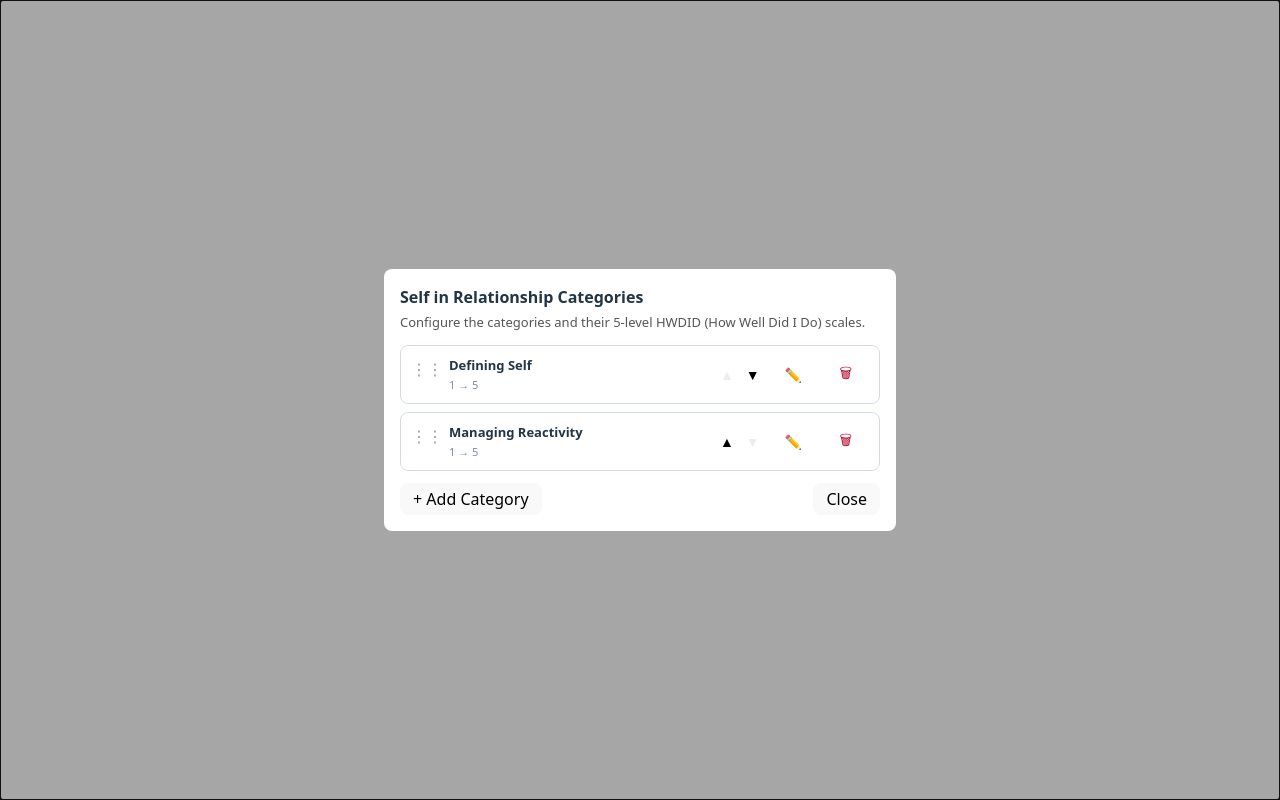
Test case: SIRSettingsModal — names (settings-07, settings-08) › refuses a duplicate name with a message
Click the button named "Edit Defining Self".
click(793, 375)  # box [768,357,819,393]
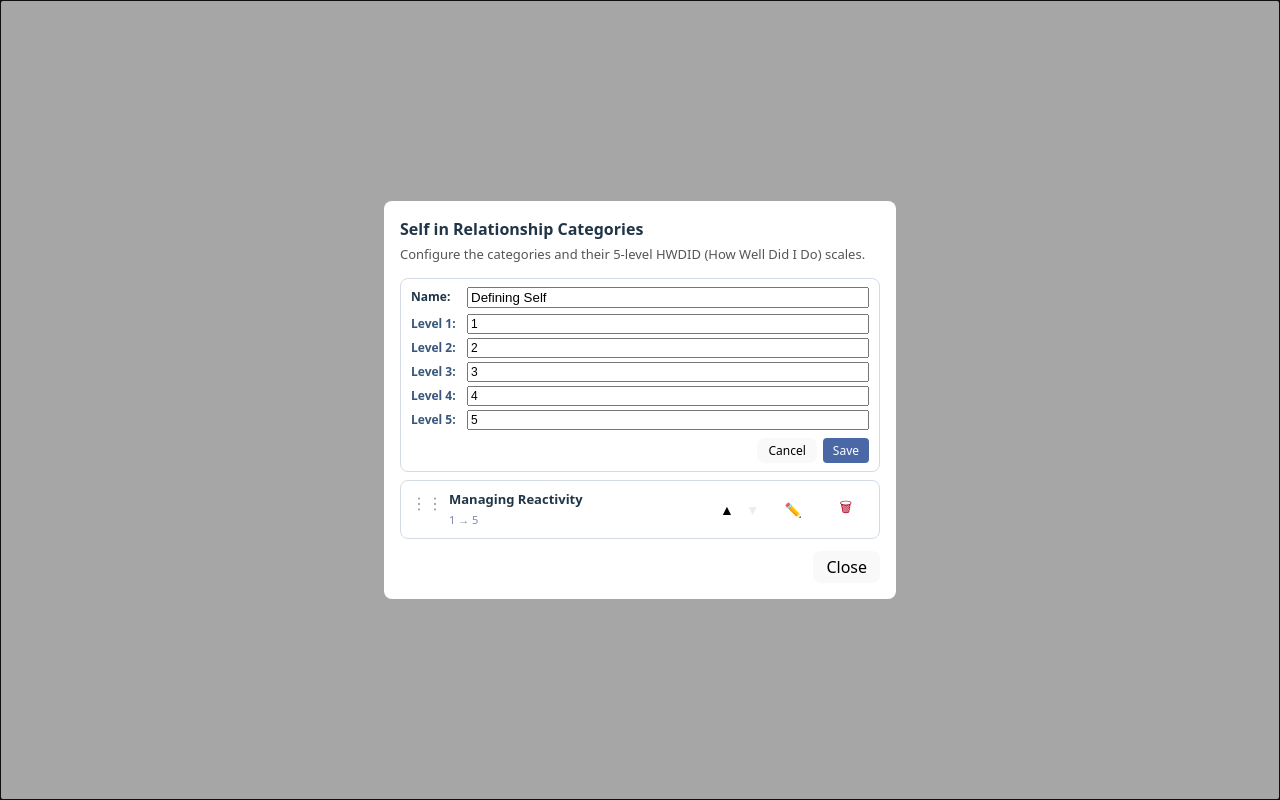
Replace the text in the field named "Category name" with "managing reactivity" at (668, 297), box [467,287,869,308]
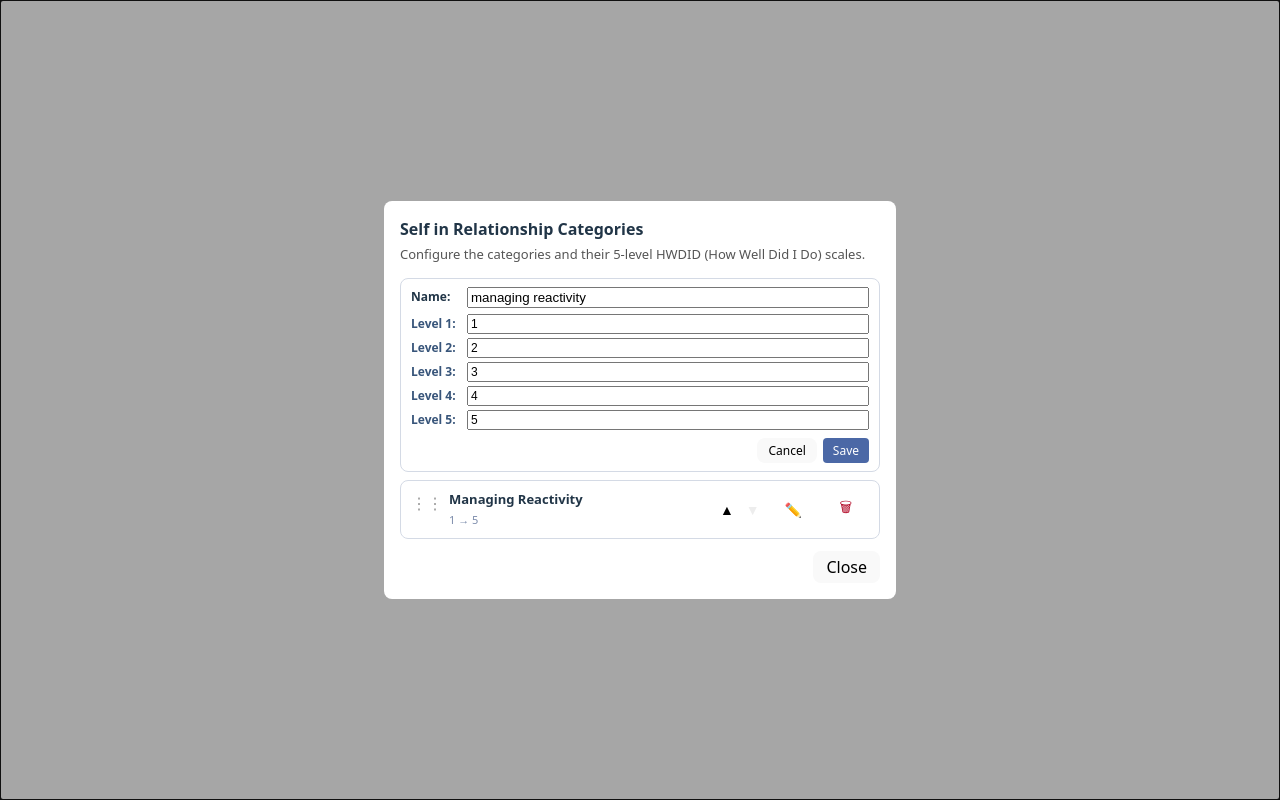
Click the button "Save".
click(846, 450)  # box [823,438,869,463]
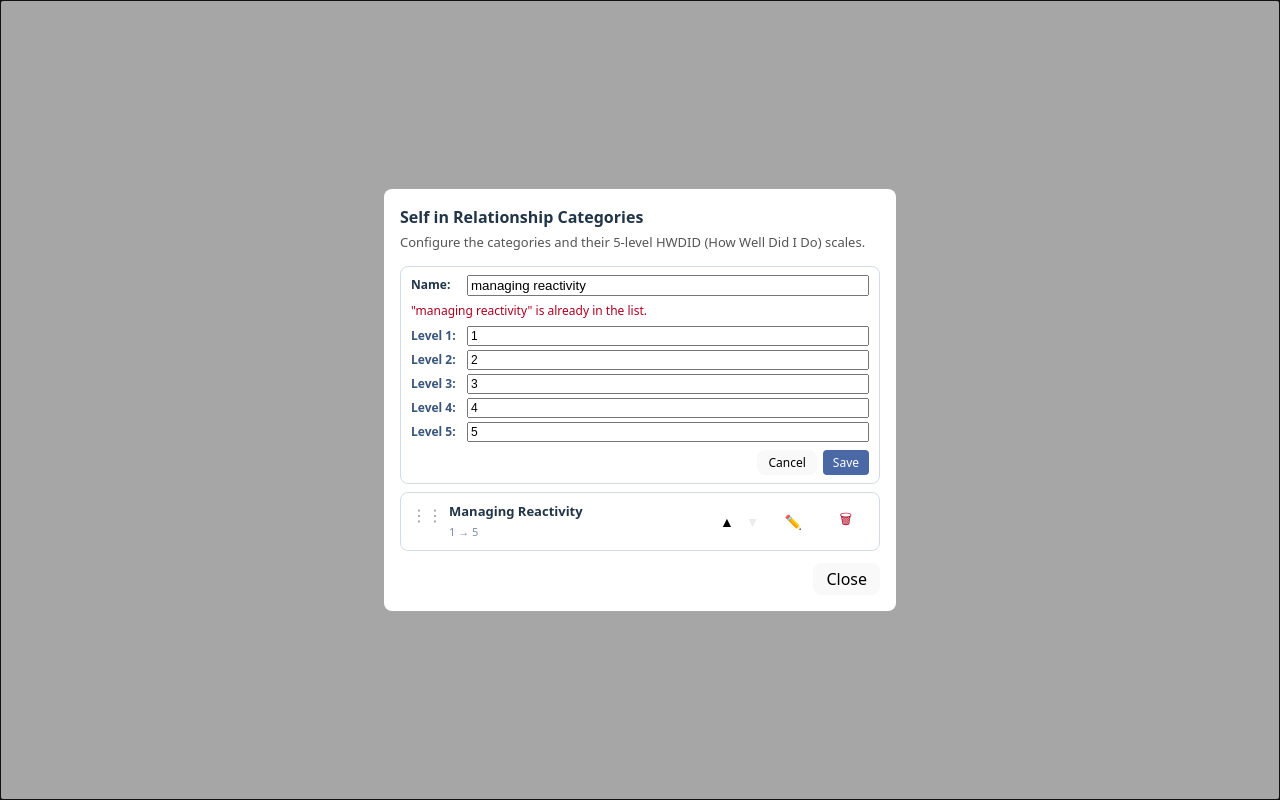
Result: the message shows "already in the list" at [411,302,647,319]
